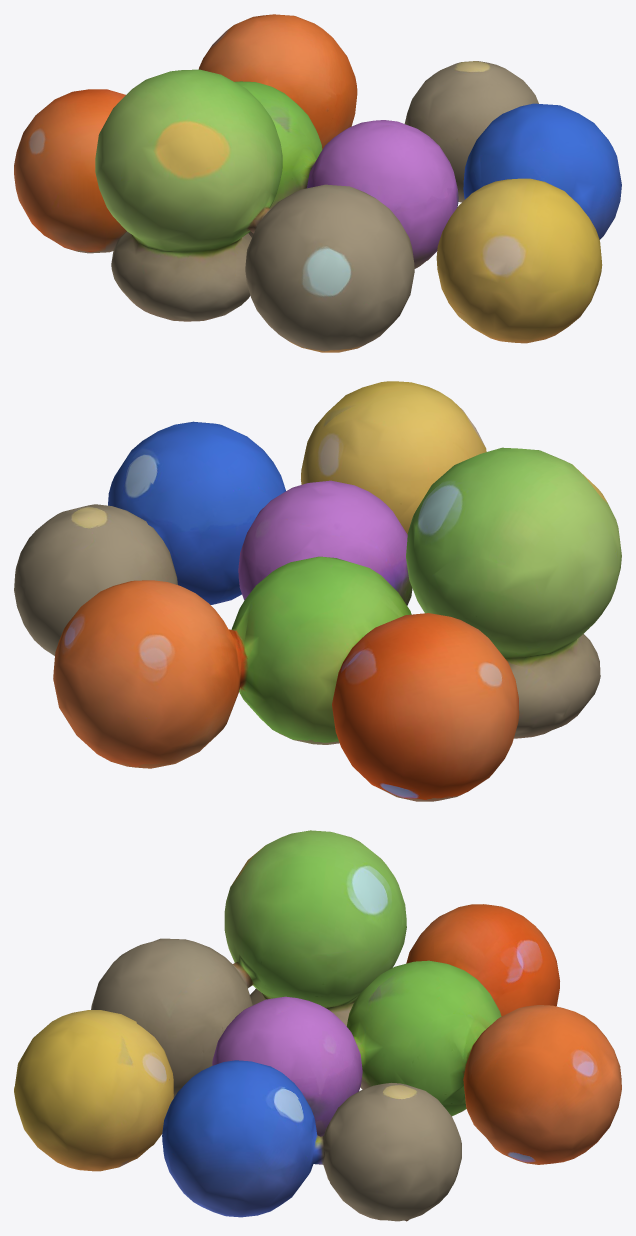
The model's file is marbles.glb.
3 views of the same model, one above another, from view 1: azimuth 30°, elevation 25°; view 2: azimuth 150°, elevation 25°; view 3: azimuth 270°, elevation 25° (orthographic). The views are drawn at different scales.
Parts seen in each view (by area): view 1: tripo_node_01839547-9c02-4f54-8992-0dc6d1884119; view 2: tripo_node_01839547-9c02-4f54-8992-0dc6d1884119; view 3: tripo_node_01839547-9c02-4f54-8992-0dc6d1884119.
Part boxes in pixels (x1=…): tripo_node_01839547-9c02-4f54-8992-0dc6d1884119: x1=14, y1=14, x2=621, y2=352; tripo_node_01839547-9c02-4f54-8992-0dc6d1884119: x1=14, y1=381, x2=621, y2=801; tripo_node_01839547-9c02-4f54-8992-0dc6d1884119: x1=14, y1=830, x2=621, y2=1221.
Bounding box in the file's own units: 0.8666 × 0.4126 × 0.999.
Materials: 1 (1 with a texture image).
